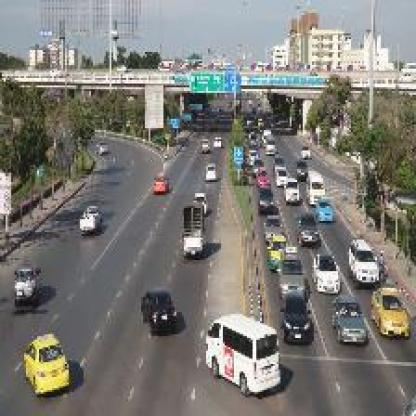other: (23, 324, 73, 398), (361, 281, 408, 343)
